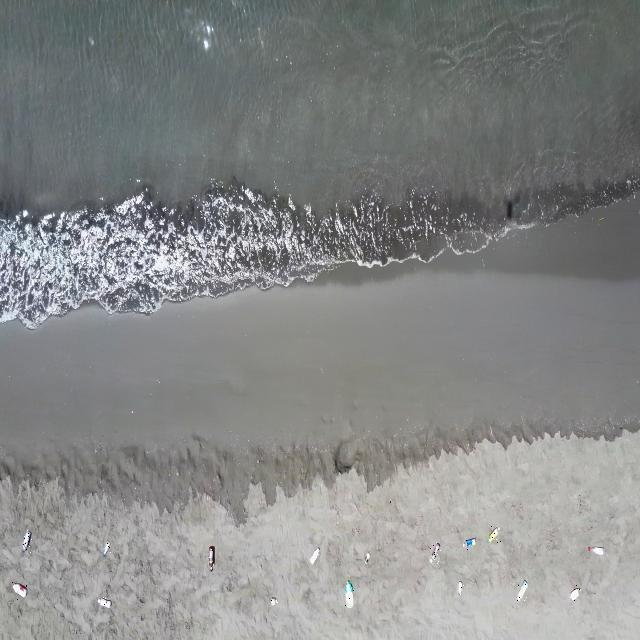Garbage: (515, 580, 527, 600), (344, 580, 352, 607), (430, 542, 440, 563), (22, 528, 31, 551), (12, 582, 26, 596), (308, 547, 319, 564), (488, 527, 499, 542), (96, 596, 110, 607), (587, 546, 604, 555), (207, 546, 213, 569), (464, 536, 475, 548), (569, 587, 579, 600), (103, 540, 110, 555), (456, 580, 462, 595), (270, 596, 276, 604), (364, 552, 368, 563)
